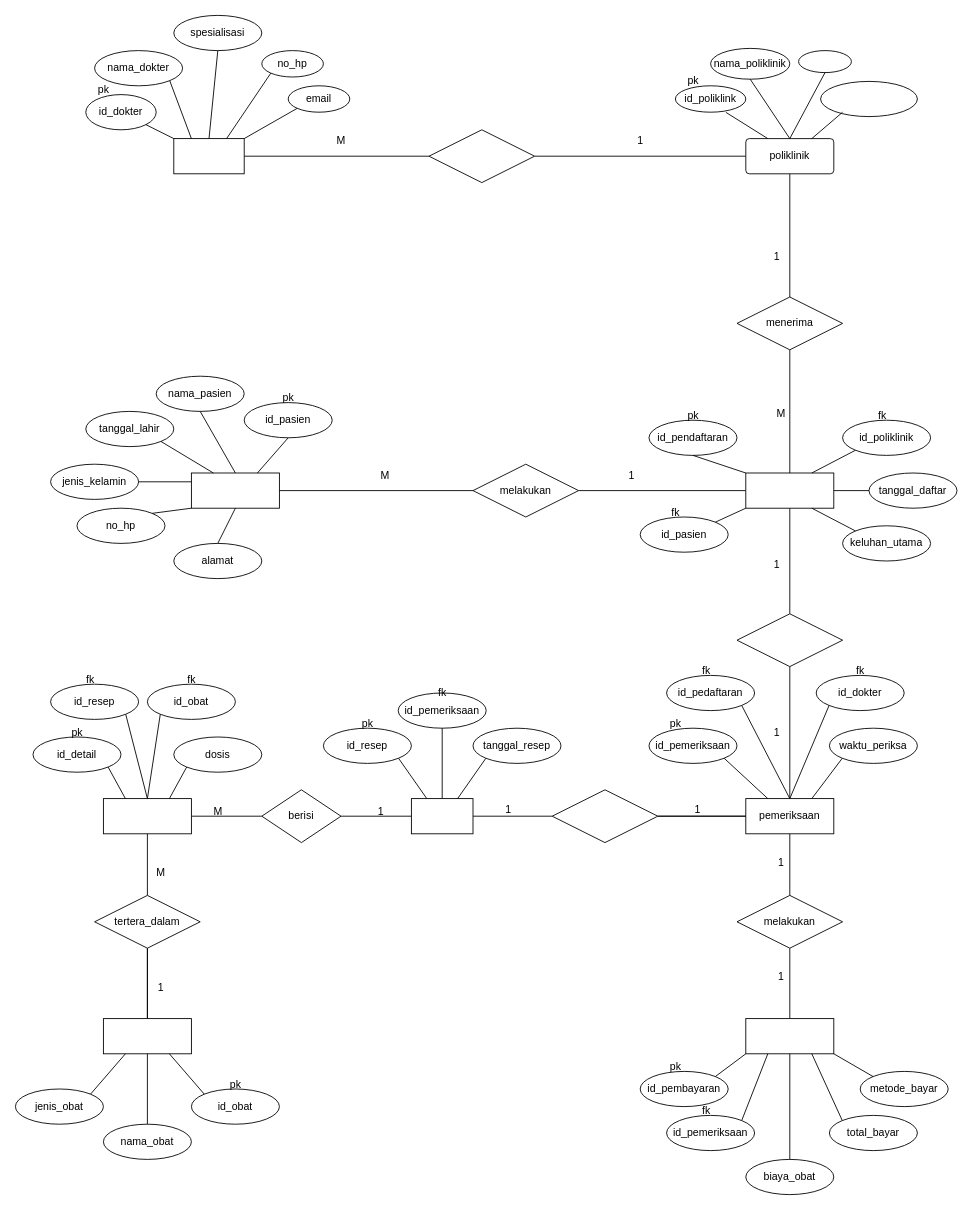
Some shapes in this 972 by 1210 pixel diagram are drawn without their labels. The centre of each missing label's shape, as x and y in pixels:
"bertugas" belongs at point (481, 156).
"biaya_konnsultasi" belongs at point (868, 99).
"detail_resep" belongs at point (147, 816).
"dilanjutkan" belongs at point (789, 640).
"dokter" belongs at point (208, 156).
"lokasi" belongs at point (824, 61).
"obat" belongs at point (147, 1036).
"pasien" belongs at point (235, 490).
"pembayaran" belongs at point (789, 1036).
"pendaftaran" belongs at point (789, 490).
"resep_obat" belongs at point (442, 816).
"rmenghasilkan" belongs at point (604, 816).
